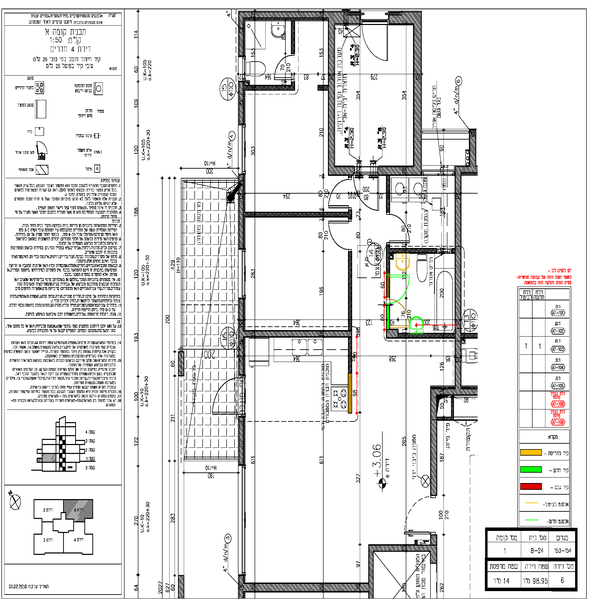door: (210, 374, 249, 414), (400, 492, 437, 534), (363, 14, 392, 64), (322, 218, 357, 252), (382, 210, 415, 245), (353, 173, 382, 211), (327, 178, 356, 209), (277, 53, 295, 84)
room: (233, 334, 373, 589), (324, 8, 426, 181), (240, 214, 357, 339), (386, 169, 467, 339), (233, 83, 336, 214), (236, 5, 337, 91)
wall: (412, 14, 424, 175), (454, 164, 462, 387), (327, 5, 336, 174), (240, 583, 372, 592), (241, 330, 353, 340), (245, 210, 351, 218), (237, 11, 331, 20), (431, 385, 438, 496), (347, 251, 356, 326), (238, 175, 247, 248), (370, 543, 435, 553), (384, 164, 414, 177), (239, 11, 246, 54)
window: (237, 248, 247, 298), (238, 125, 247, 174)
